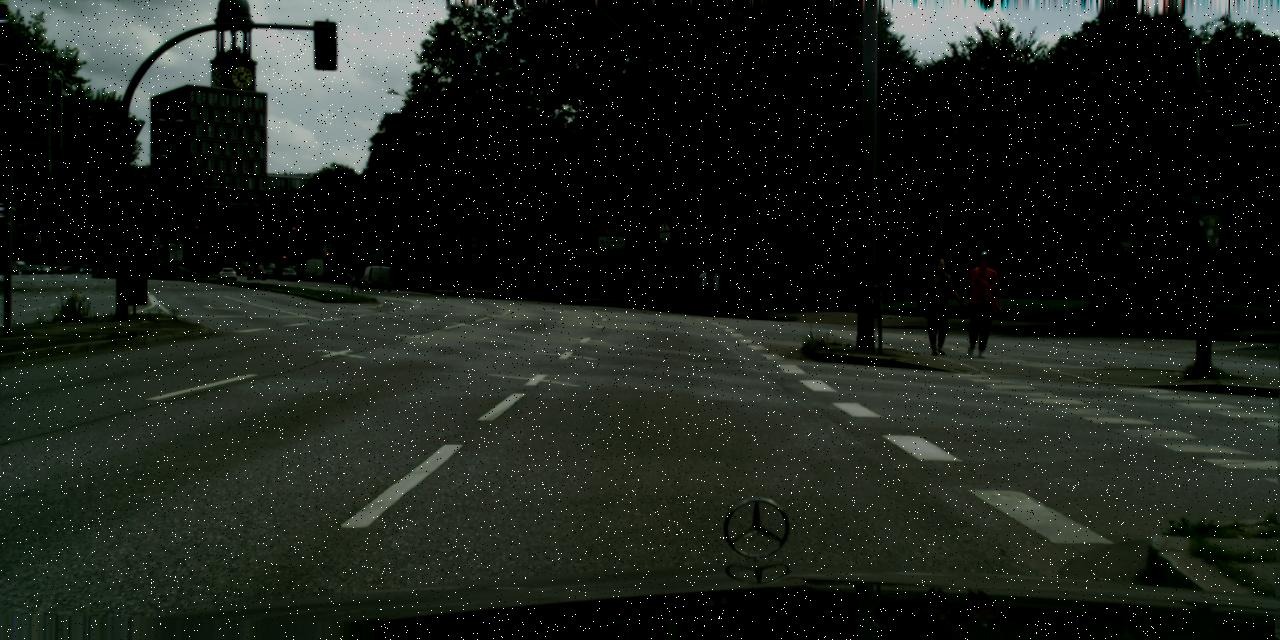ped: (958, 250, 1001, 356), (918, 258, 958, 355), (696, 267, 712, 304), (679, 269, 693, 305), (710, 268, 724, 304), (491, 271, 497, 286), (487, 272, 492, 286)
